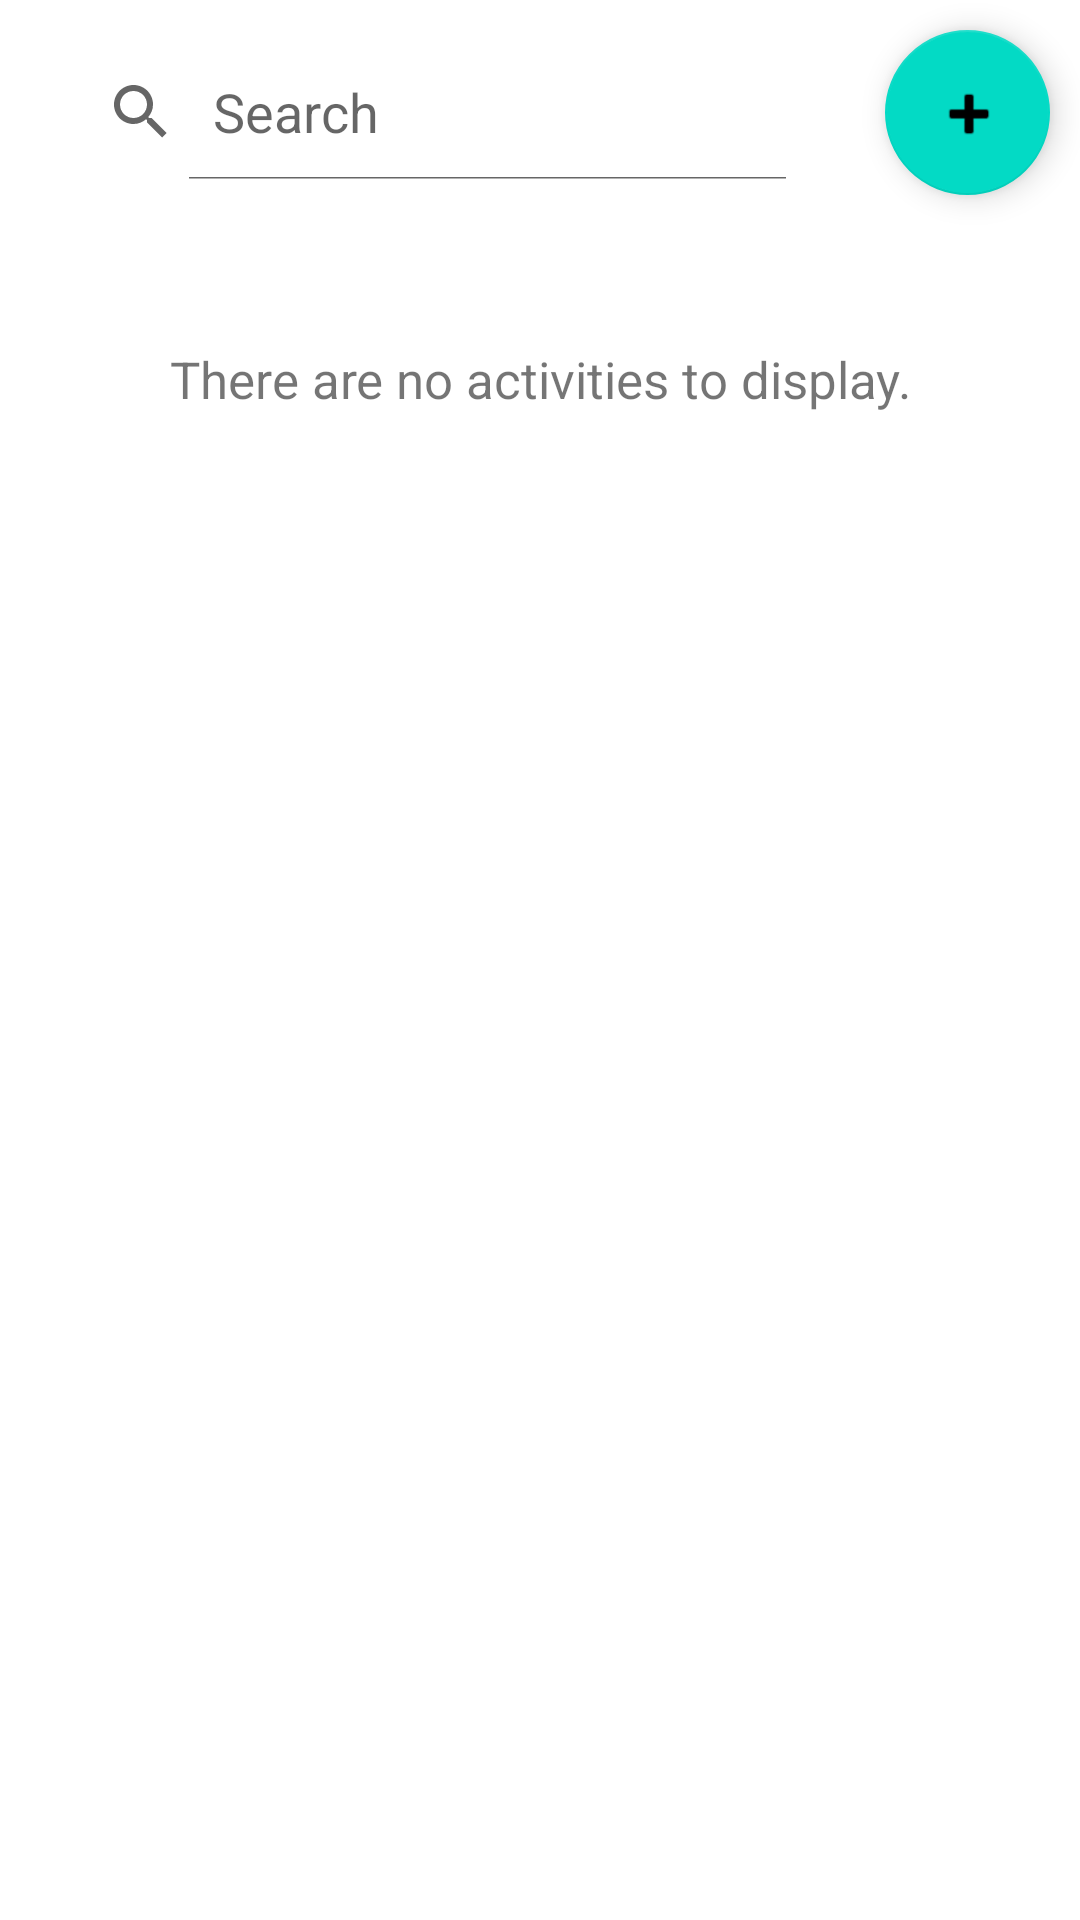

Icons on this 1080px×1920px Android screen, each with its box as (x1, y1, x2, y2):
add: (885, 30, 1050, 195)
